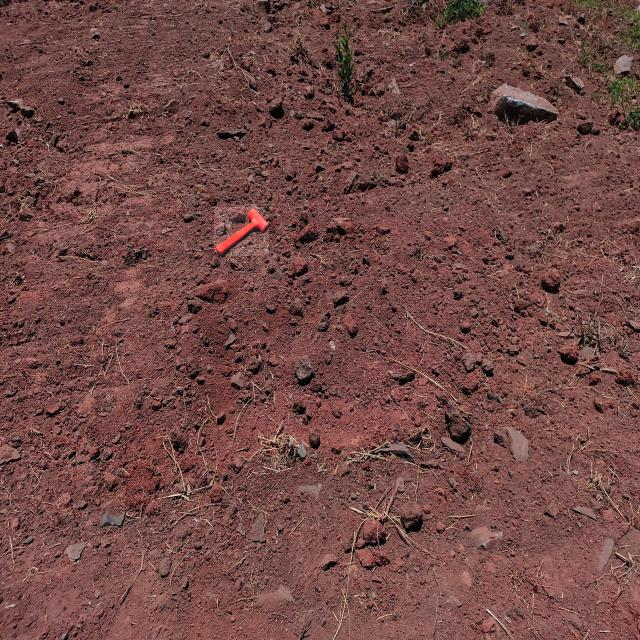Orange_hammer: (214, 207, 269, 256)
